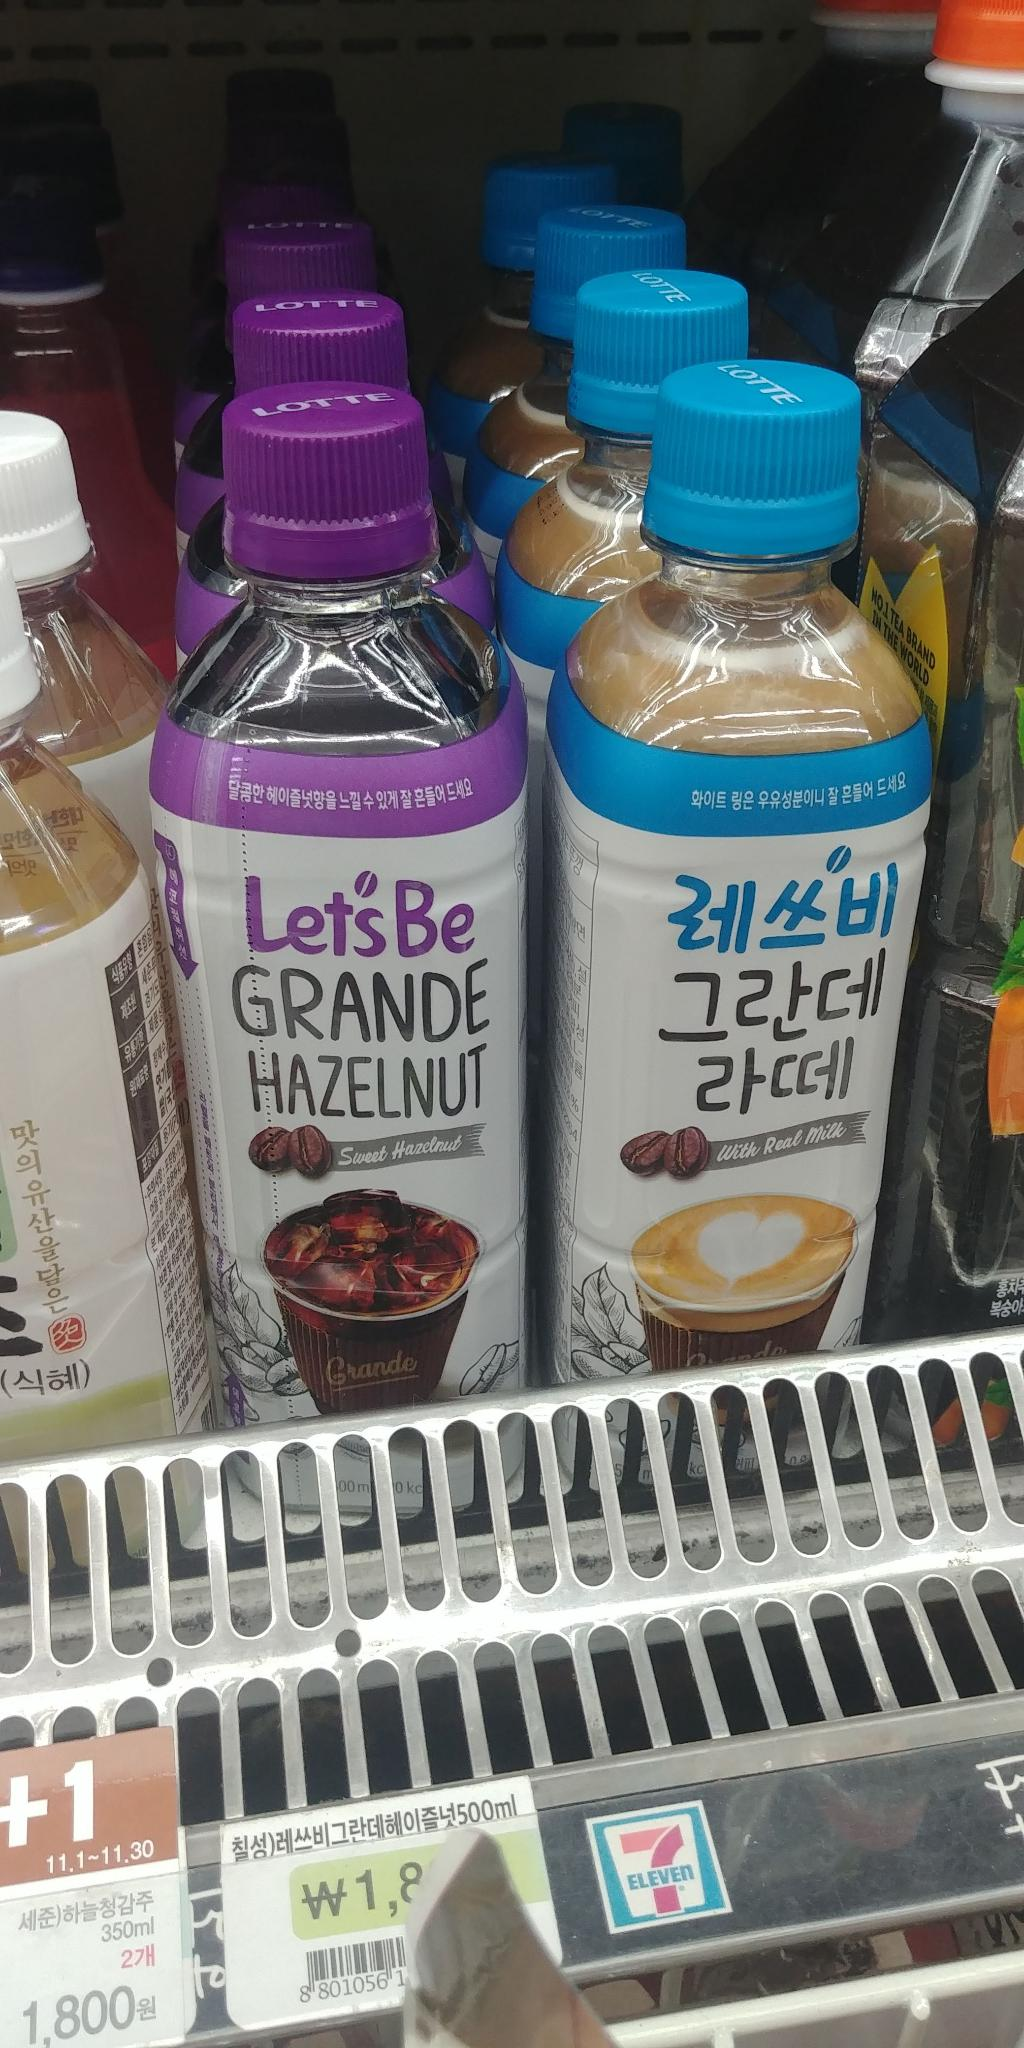letsbe_grande_hazelnut: (129, 371, 551, 1503)
